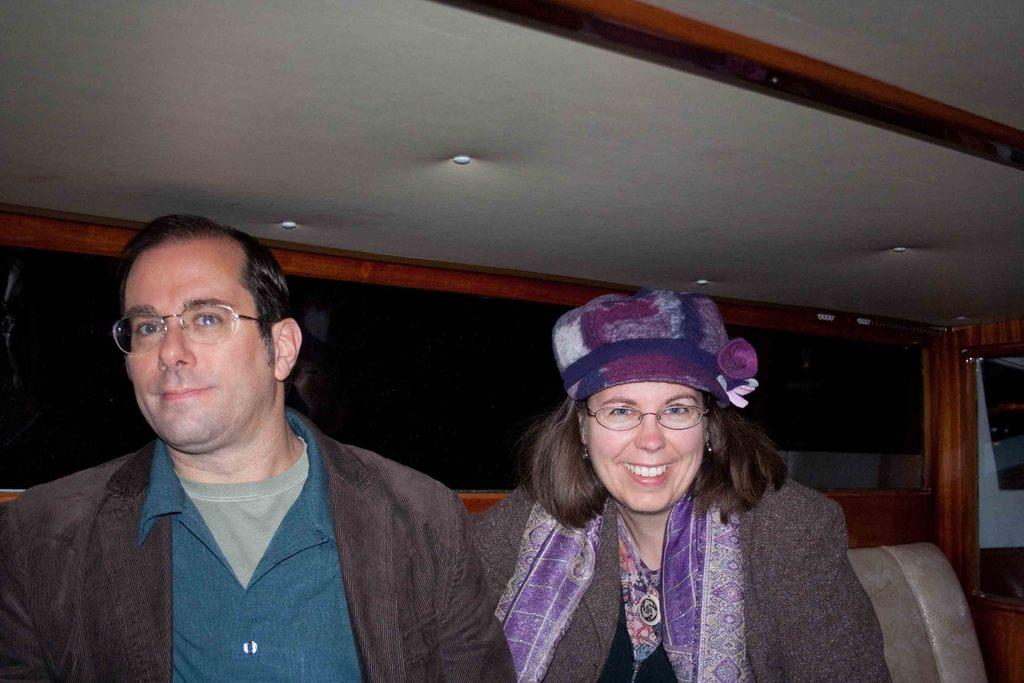Hat: (553, 291, 760, 413)
